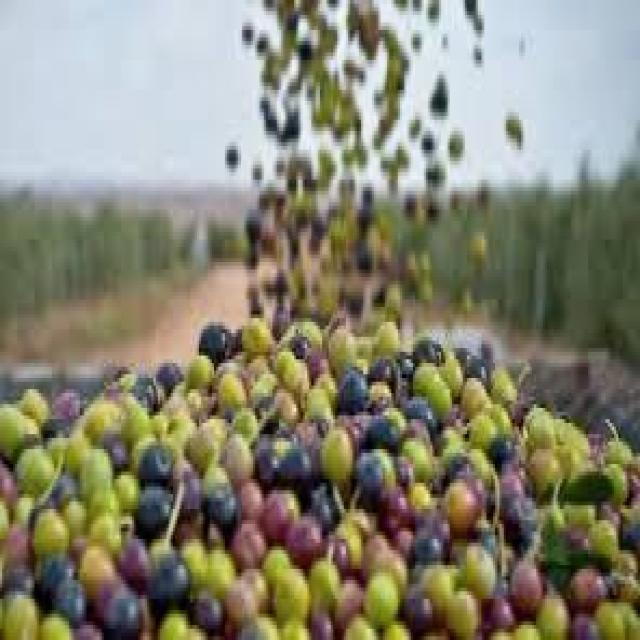Healthy: (0, 318, 638, 636)
